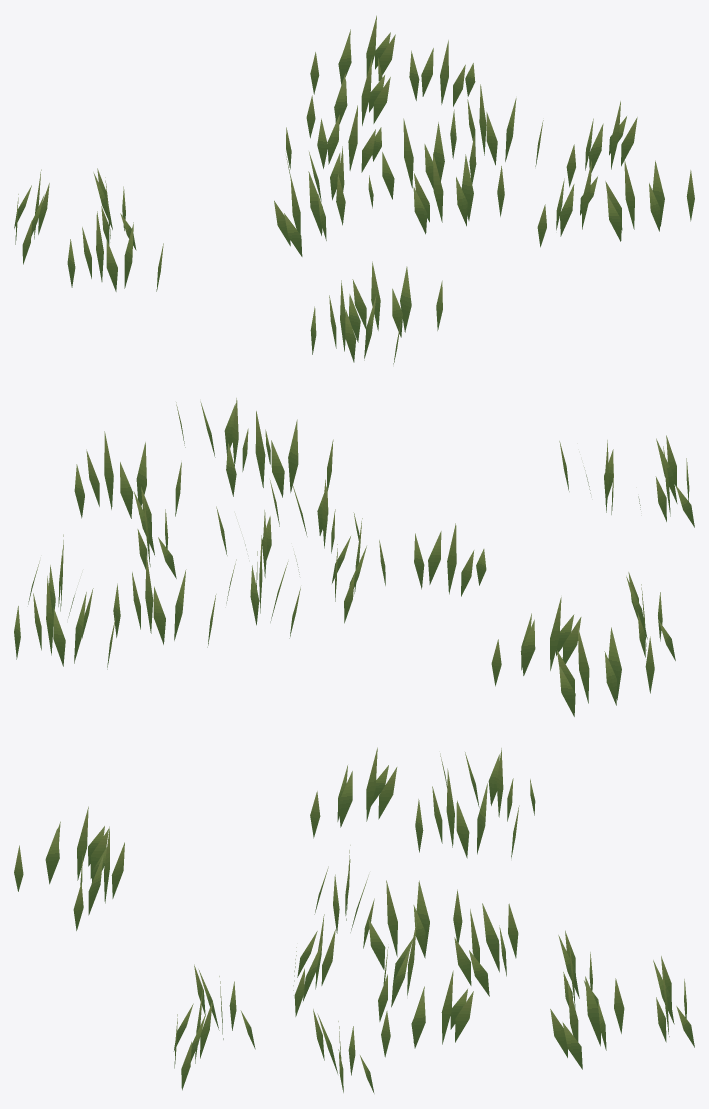
File: plants_un_main_grass_set31_01.gltf
The picture shows the model from 3 angles, top to bottom: view 1: azimuth 30°, elevation 25°; view 2: azimuth 150°, elevation 25°; view 3: azimuth 270°, elevation 25°; orthographic projection. The views are drawn at different scales.
Visible parts, largest first — view 1: plants_un_main_grass_set31_01_mesh_shape:plants_un_main_gras; view 2: plants_un_main_grass_set31_01_mesh_shape:plants_un_main_gras; view 3: plants_un_main_grass_set31_01_mesh_shape:plants_un_main_gras.
Part boxes in pixels (bbox=[...]): plants_un_main_grass_set31_01_mesh_shape:plants_un_main_gras: bbox=[14, 15, 694, 364]; plants_un_main_grass_set31_01_mesh_shape:plants_un_main_gras: bbox=[14, 398, 694, 716]; plants_un_main_grass_set31_01_mesh_shape:plants_un_main_gras: bbox=[14, 747, 694, 1093].
Size of what is drawn, in the model's own units: 3.78 by 0.4603 by 3.6.
1 material, 1 textured.
